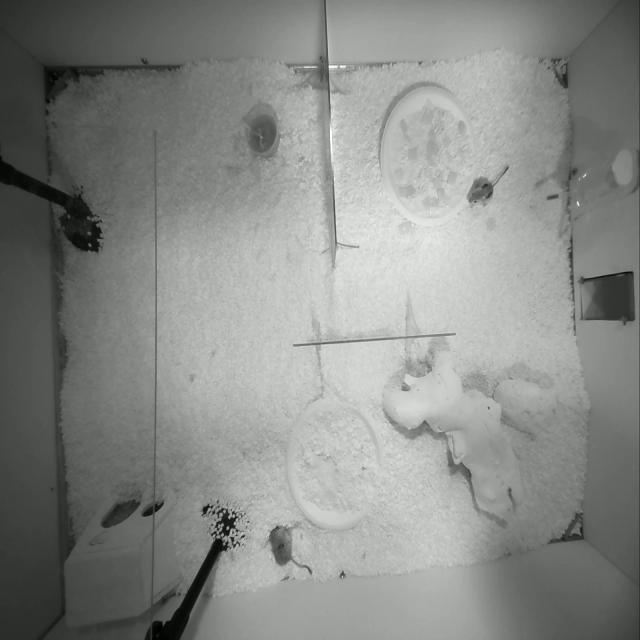pup_fluffy: (270, 525, 312, 574)
pup_v_stripe: (467, 165, 508, 205)
